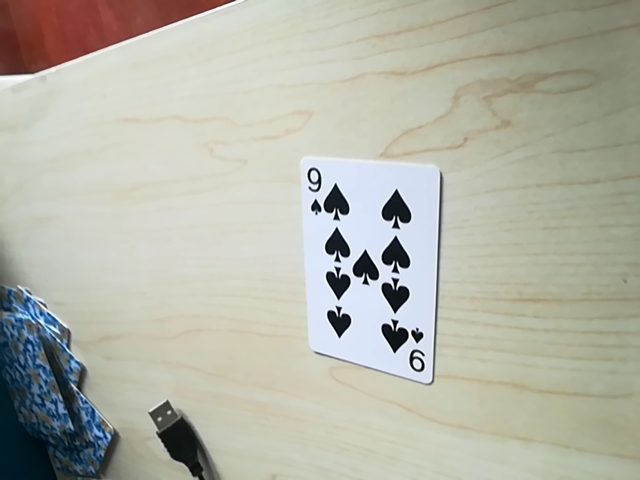ht 9: (299, 160, 330, 208), (401, 335, 432, 381)
